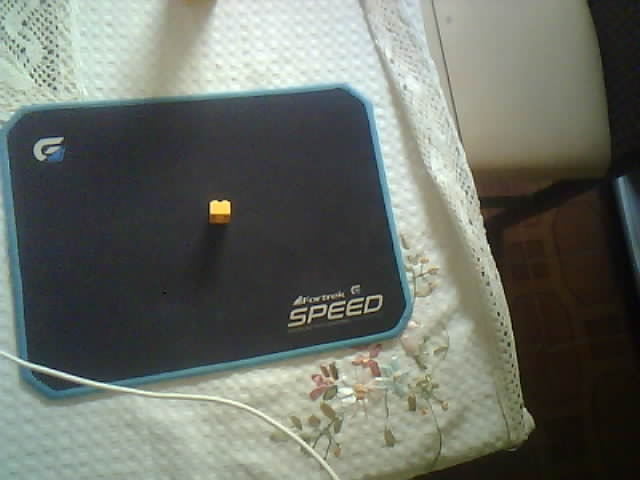lego: (208, 199, 231, 224)
